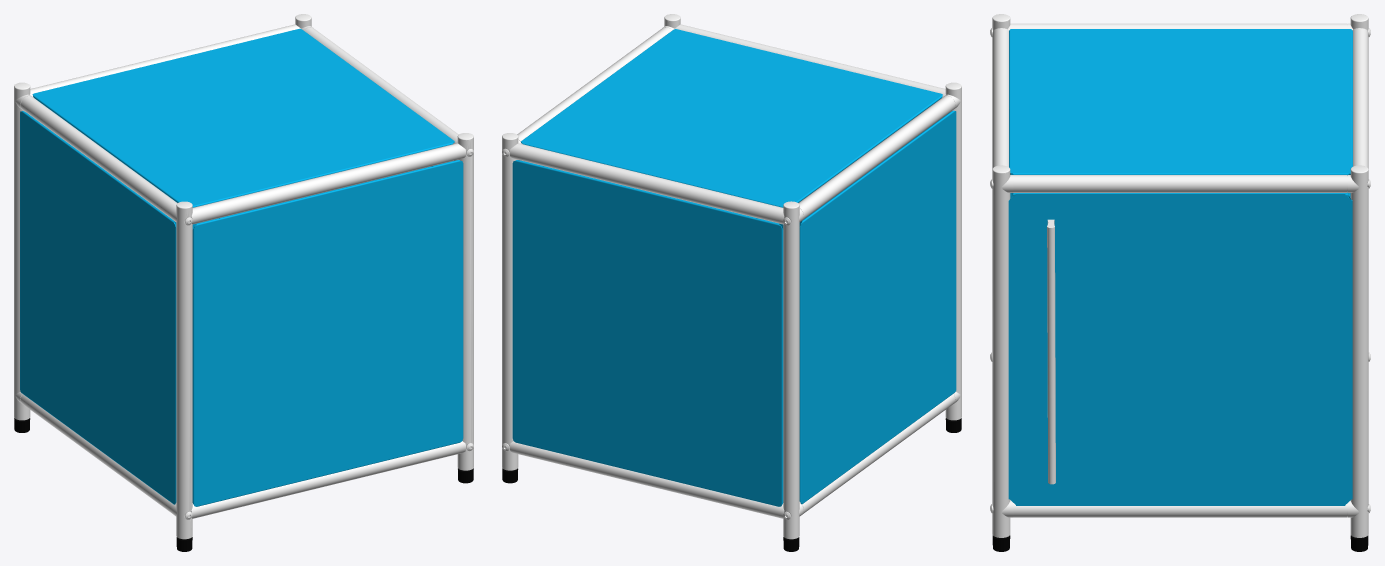
File: 40x40x40-2-4-blue_optimized_optimized.glb
The picture shows the model from 3 angles, left to right: view 1: azimuth 30°, elevation 25°; view 2: azimuth 150°, elevation 25°; view 3: azimuth 270°, elevation 25°; orthographic projection. The views are drawn at different scales.
Visible parts, largest first — view 1: 直角鐵板-40x40-5 - 零件, 反-鐵管-40-354..4-1 - 零件, 圓形腳+調整器-1 - 零件; view 2: 直角鐵板-40x40-5 - 零件, 反-鐵管-40-354..4-1 - 零件, 圓形腳+調整器-1 - 零件; view 3: 直角鐵板-40x40-5 - 零件, 反-鐵管-40-354..4-1 - 零件, 圓形腳+調整器-1 - 零件.
Part boxes in pixels (x1,y1,x2,y2): 直角鐵板-40x40-5 - 零件: [20, 28, 463, 506]; 反-鐵管-40-354..4-1 - 零件: [14, 14, 473, 539]; 圓形腳+調整器-1 - 零件: [14, 418, 473, 551]; 直角鐵板-40x40-5 - 零件: [512, 29, 956, 506]; 反-鐵管-40-354..4-1 - 零件: [502, 14, 961, 539]; 圓形腳+調整器-1 - 零件: [502, 418, 961, 551]; 直角鐵板-40x40-5 - 零件: [1008, 29, 1352, 505]; 反-鐵管-40-354..4-1 - 零件: [990, 14, 1370, 537]; 圓形腳+調整器-1 - 零件: [992, 535, 1368, 551].
Size of the model in its own units: 0.4203 by 0.4453 by 0.4035.
